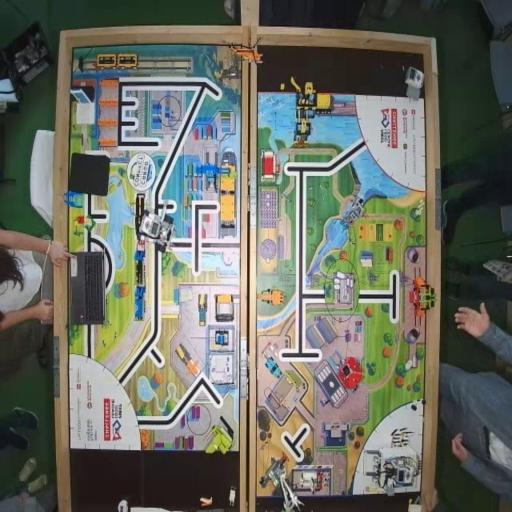lego_robot: (365, 448, 421, 497), (134, 194, 174, 254)
